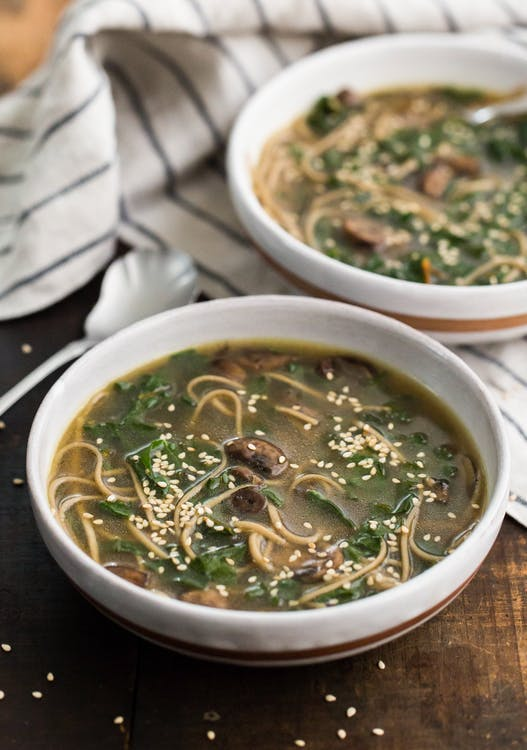Soba: (64, 360, 439, 616)
